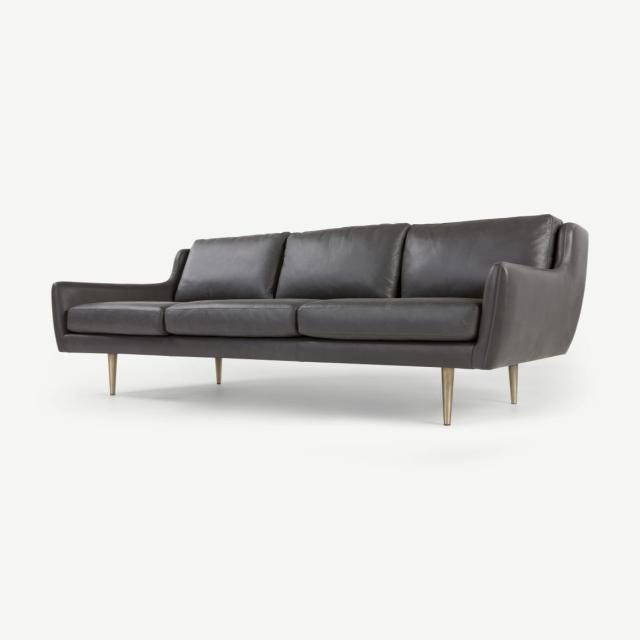back_cushion: (174, 215, 561, 301)
left_arm: (472, 223, 587, 369)
legs: (441, 367, 454, 425), (107, 353, 117, 395), (509, 364, 517, 404), (215, 358, 222, 385)
right_arm: (51, 250, 186, 350)
seat_cushion: (59, 299, 481, 366)
stallion-sofa: (0, 0, 639, 639)
